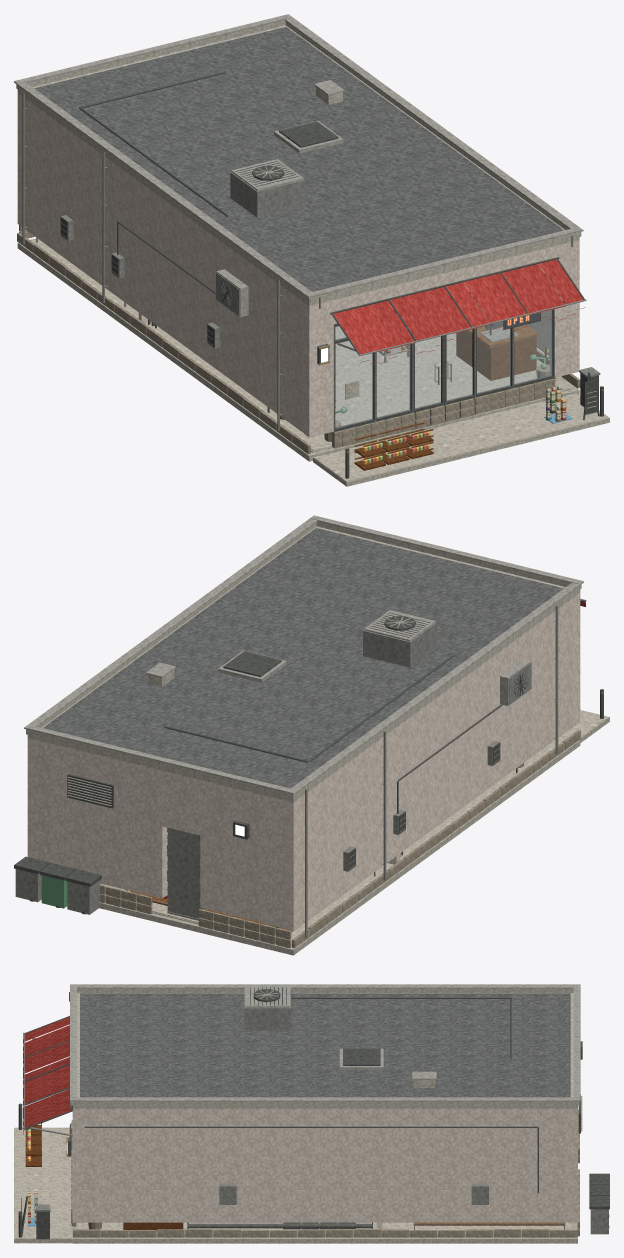
Rendered from HIL05_lod2.glb.
3 renders of one model, top to bottom at view 1: azimuth 30°, elevation 25°; view 2: azimuth 150°, elevation 25°; view 3: azimuth 270°, elevation 25°, orthographic. The views are drawn at different scales.
Visible parts, largest first — view 1: Roof__roof, Structure__plaster, Interior_Floor__tile_b, Facade_Glass__shopglass, Roof__steel_light, Awning_Canvas__red_awning, Structure__concrete, Exterior_Stoop__tile_b, Roof__concrete, Facade_Stone__stone, Awning_Canvas__red_awning_alt, Facade_Stone__stone_alt (+14 smaller); view 2: Structure__plaster, Roof__roof, Roof__steel_light, Structure__concrete, Roof__concrete, Facade_Stone__stone, Facade__metal_grey, Utilities__metal_grey, Facade_Stone__stone_alt, Roof_Mechanical__metal_black, Interior_Floor__tile_b, Utilities__metal_black (+6 smaller); view 3: Structure__plaster, Roof__roof, Structure__concrete, Roof__steel_light, Exterior_Stoop__tile_b, Roof__concrete, Facade_Stone__stone, Awning_Canvas__red_awning, Interior_Floor__tile_b, Roof_Mechanical__metal_black, Facade_Stone__stone_alt, Awning_Canvas__red_awning_alt (+15 smaller).
Boxes of the visible parts, x1,y1,x2,y2 form: Roof__roof: (34,27,563,291); Structure__plaster: (17,93,579,437); Interior_Floor__tile_b: (31,239,568,450); Facade_Glass__shopglass: (335,277,552,427); Roof__steel_light: (14,14,583,297); Awning_Canvas__red_awning: (369,259,583,347); Structure__concrete: (17,25,579,461); Exterior_Stoop__tile_b: (314,393,609,481); Roof__concrete: (16,20,581,302); Facade_Stone__stone: (17,225,561,446); Awning_Canvas__red_awning_alt: (333,277,508,354); Facade_Stone__stone_alt: (33,244,580,454); Structure__plaster: (27,593,580,931); Roof__roof: (43,528,563,788); Roof__steel_light: (24,515,583,794); Structure__concrete: (27,526,580,955); Roof__concrete: (26,521,581,799); Facade_Stone__stone: (100,742,564,948); Facade__metal_grey: (167,828,203,920); Utilities__metal_grey: (305,606,558,937); Facade_Stone__stone_alt: (106,730,580,944); Roof_Mechanical__metal_black: (164,612,455,762); Interior_Floor__tile_b: (100,737,566,942); Utilities__metal_black: (67,672,526,870); Structure__plaster: (72,1108,577,1222); Roof__roof: (80,993,570,1097); Structure__concrete: (72,993,577,1243); Roof__steel_light: (70,984,580,1101); Exterior_Stoop__tile_b: (14,1127,71,1239); Roof__concrete: (71,988,579,1105); Facade_Stone__stone: (71,1109,579,1237); Awning_Canvas__red_awning: (24,1033,71,1127); Interior_Floor__tile_b: (78,1222,572,1234); Roof_Mechanical__metal_black: (250,987,511,1065); Facade_Stone__stone_alt: (71,1116,579,1237); Awning_Canvas__red_awning_alt: (24,1017,69,1096).
Size of the model in its own units: 8.01 by 5.08 by 16.52.
33 materials, 20 textured.
